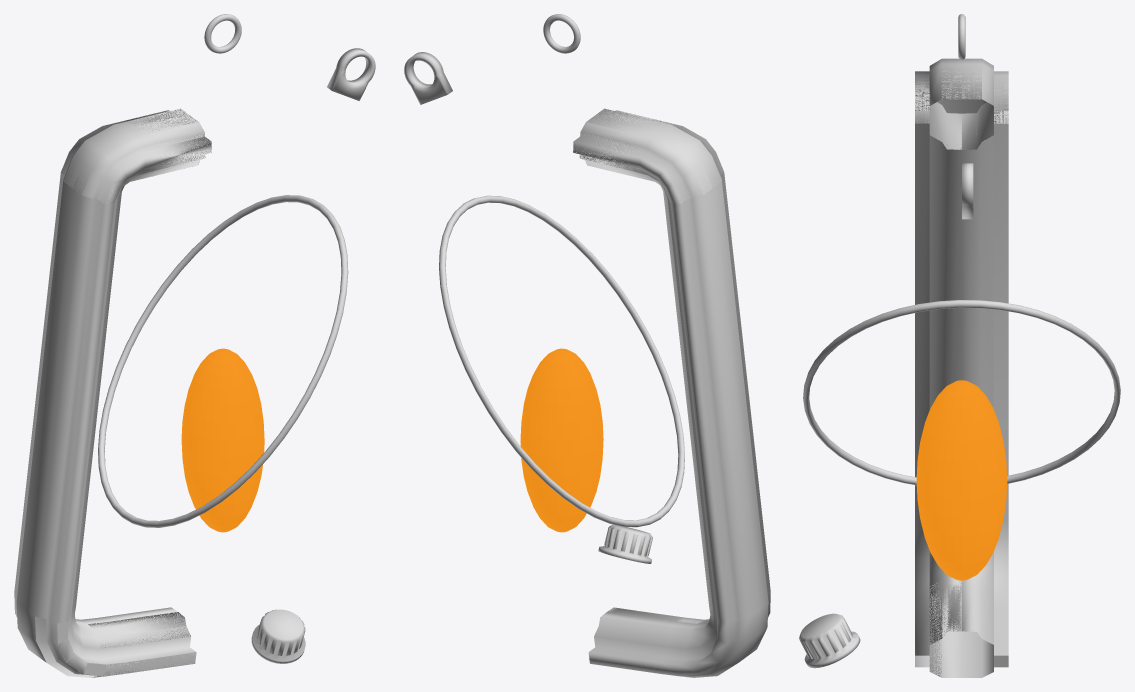
Rendered from lantern.glb.
The picture shows the model from 3 angles, left to right: view 1: azimuth 30°, elevation 25°; view 2: azimuth 150°, elevation 25°; view 3: azimuth 270°, elevation 25°; orthographic projection. The views are drawn at different scales.
Parts seen in each view (by area): view 1: Plane, Sphere, Torus, Cylinder.001, Circle, Torus.001; view 2: Plane, Sphere, Torus, Cylinder.001, Circle, Torus.001; view 3: Plane, Sphere, Torus, Cylinder.001, Circle.
Part boxes in pixels (x1,y1,x2,y2): Plane: [14, 108, 211, 677]; Sphere: [181, 348, 264, 532]; Torus: [98, 195, 348, 527]; Cylinder.001: [251, 609, 305, 663]; Circle: [327, 48, 375, 100]; Torus.001: [204, 14, 241, 53]; Plane: [573, 108, 770, 677]; Sphere: [520, 348, 603, 532]; Torus: [439, 195, 684, 527]; Cylinder.001: [598, 524, 652, 563]; Circle: [404, 52, 452, 104]; Torus.001: [543, 14, 580, 53]; Plane: [915, 58, 1008, 677]; Sphere: [916, 380, 1007, 580]; Torus: [803, 300, 1120, 485]; Cylinder.001: [799, 613, 860, 668]; Circle: [962, 163, 973, 219].
Bounding box in the file's own units: 2.22 × 3.84 × 1.62.
